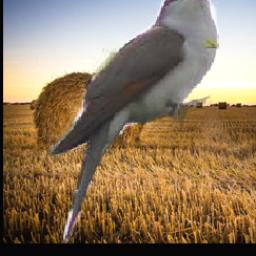Cuckoo: (48, 0, 220, 243)
